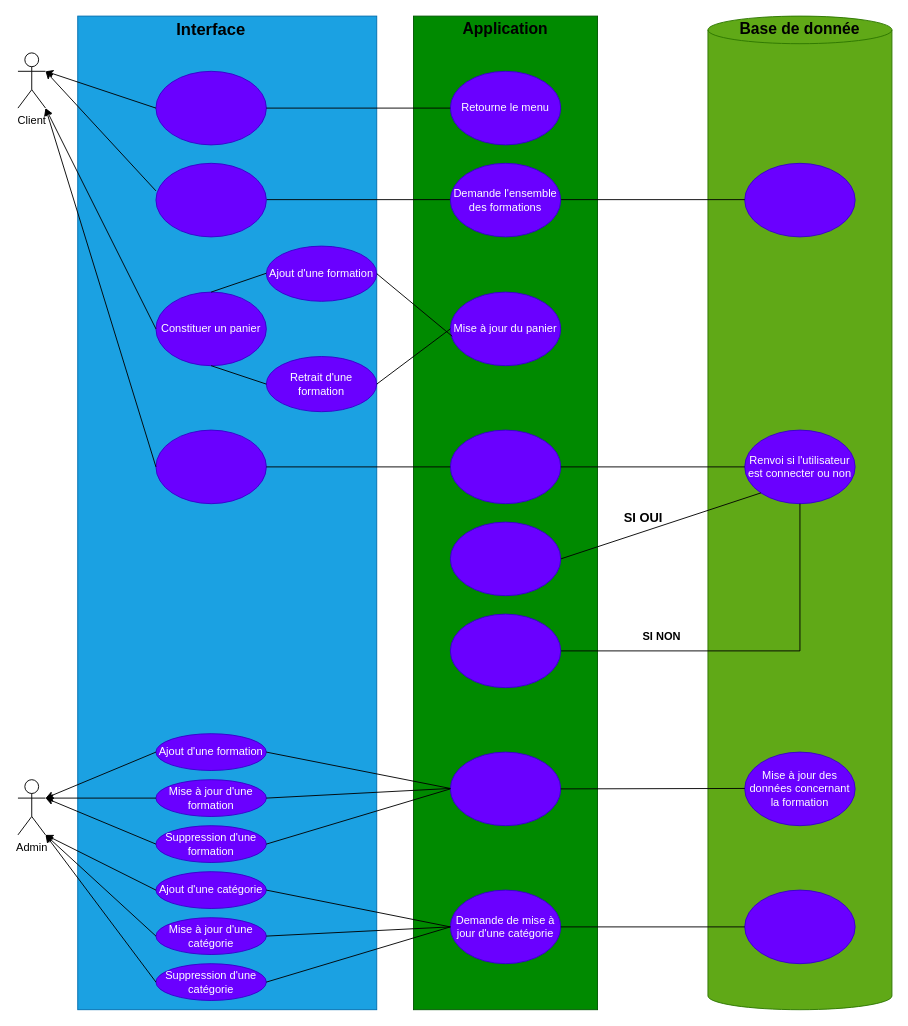
Image size: 908x1026. Some labels were removed from this diagram. Each missing label, with the centre of its shape:
Affiche l'ensemble des formations: pixel 210 199
Affiche le menu des options: pixel 210 107
Création d'un utilisateur: pixel 505 650
Demande de mise à jour d'une formation: pixel 505 788
Finalisation de la commande: pixel 505 558
Mise à jour des données concernant la catégorie: pixel 799 926
Passer commande: pixel 210 466
Renvoi les formations: pixel 799 199
Vérification si l'utilisateur est connecter: pixel 505 466
